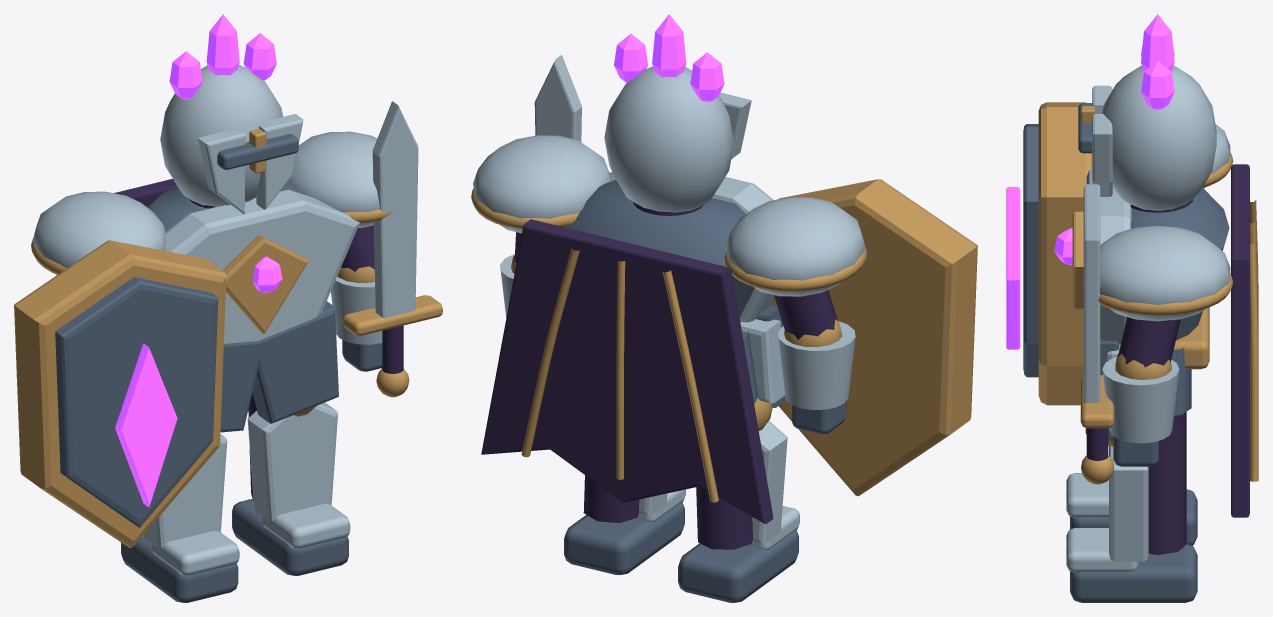
File: moonsteel-convergence-aegis-marshal-c252f02d__18168.glb
3 renders of one model, left to right at view 1: azimuth 30°, elevation 25°; view 2: azimuth 150°, elevation 25°; view 3: azimuth 270°, elevation 25°, orthographic. The views are drawn at different scales.
Parts seen in each view (by area): view 1: aegis-marshal; view 2: aegis-marshal; view 3: aegis-marshal.
Boxes of the visible parts, <box> form: aegis-marshal: <box>14,14,442,602</box>; aegis-marshal: <box>471,14,977,602</box>; aegis-marshal: <box>1006,14,1258,602</box>.
Bounding box in the file's own units: 2.08 × 2.52 × 1.05.
